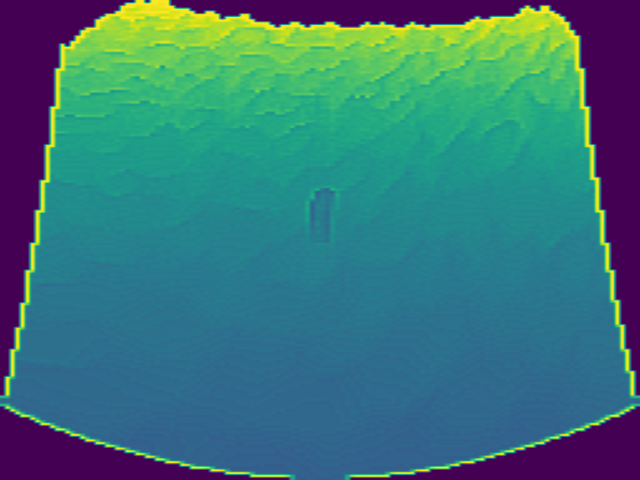car_0198: (307, 188, 336, 241)
